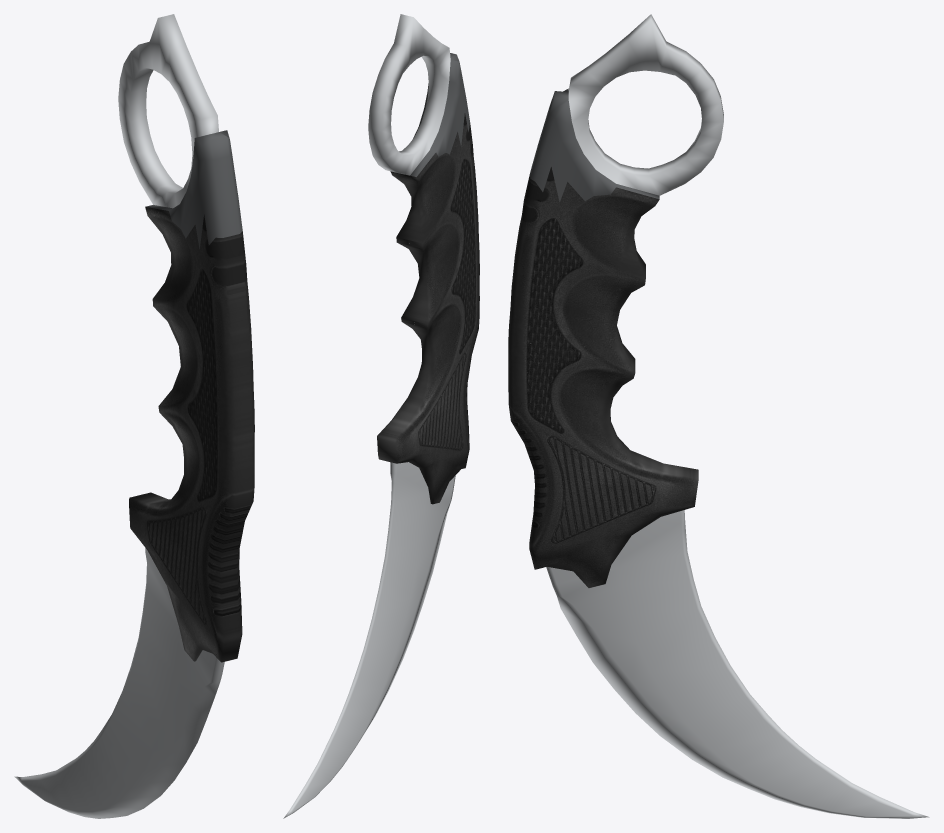
File: karambit.glb
The picture shows the model from 3 angles, left to right: view 1: azimuth 30°, elevation 25°; view 2: azimuth 150°, elevation 25°; view 3: azimuth 270°, elevation 25°; orthographic projection. The views are drawn at different scales.
Parts seen in each view (by area): view 1: karambit; view 2: karambit; view 3: karambit.
Boxes of the visible parts, <box> form: karambit: <box>14,14,254,818</box>; karambit: <box>283,14,479,818</box>; karambit: <box>508,14,929,818</box>.
Bounding box in the file's own units: 0.00776 × 0.2 × 0.0953.
3 materials, 1 textured.
